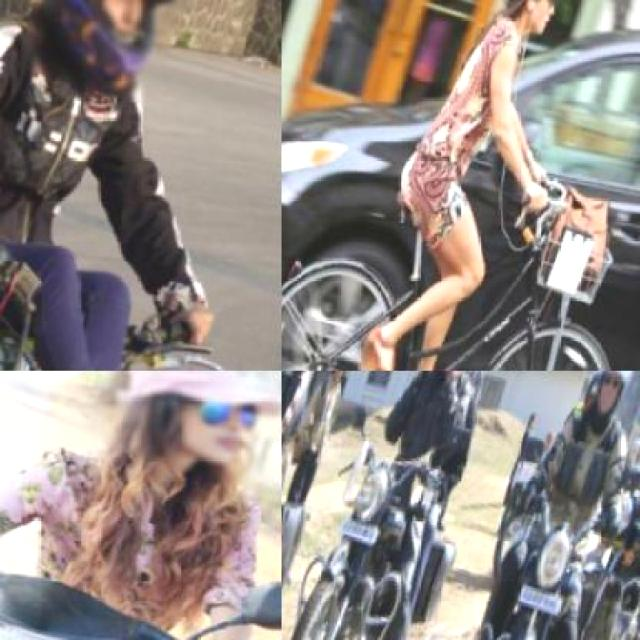With Helmet: (12, 0, 212, 109), (586, 371, 639, 420)
Without Helmet: (82, 371, 280, 495), (497, 0, 577, 37)
